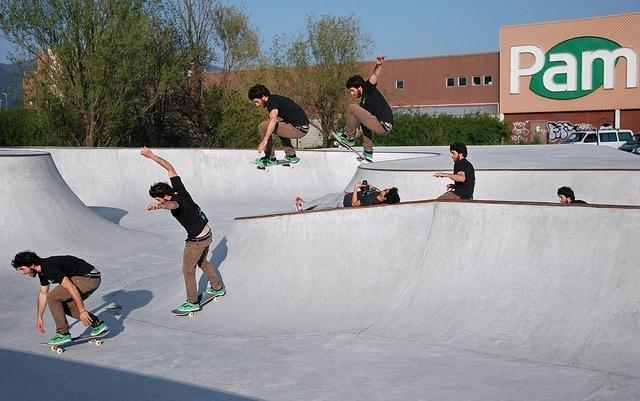car: (558, 128, 634, 150), (621, 132, 640, 155)
